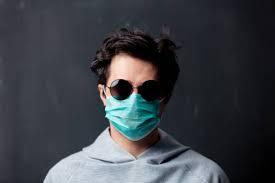mask: (99, 91, 173, 146)
sunglasses: (107, 75, 172, 107)
